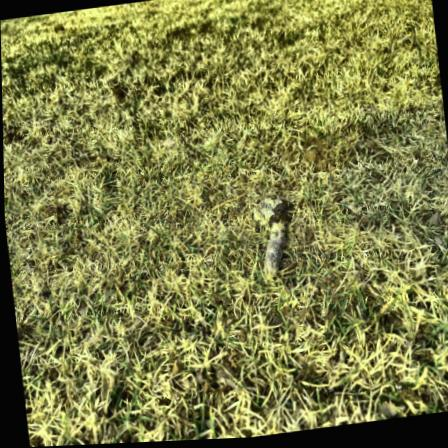dog-poop: (241, 189, 297, 285)
